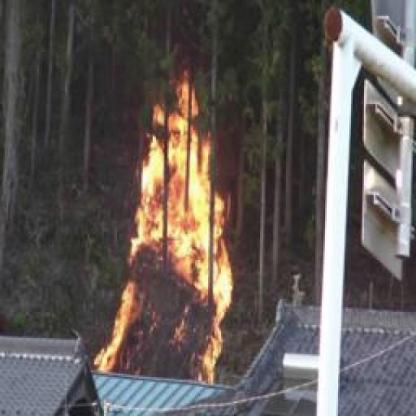fire: (97, 57, 239, 380)
